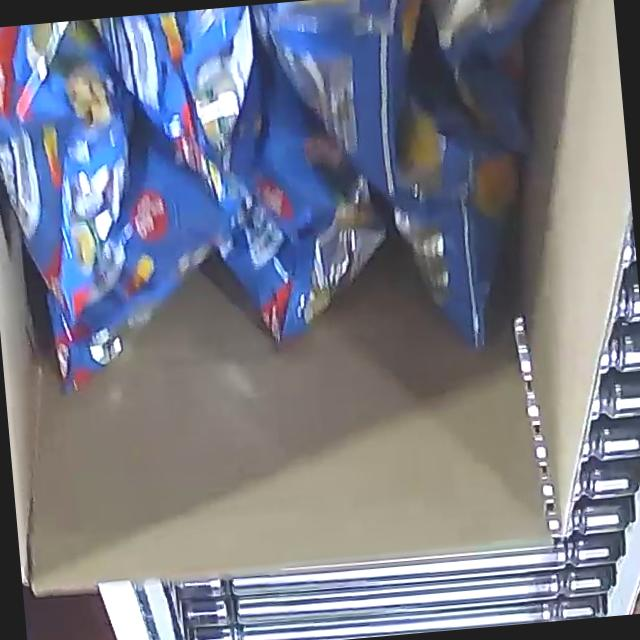paprika: (0, 0, 620, 403)
